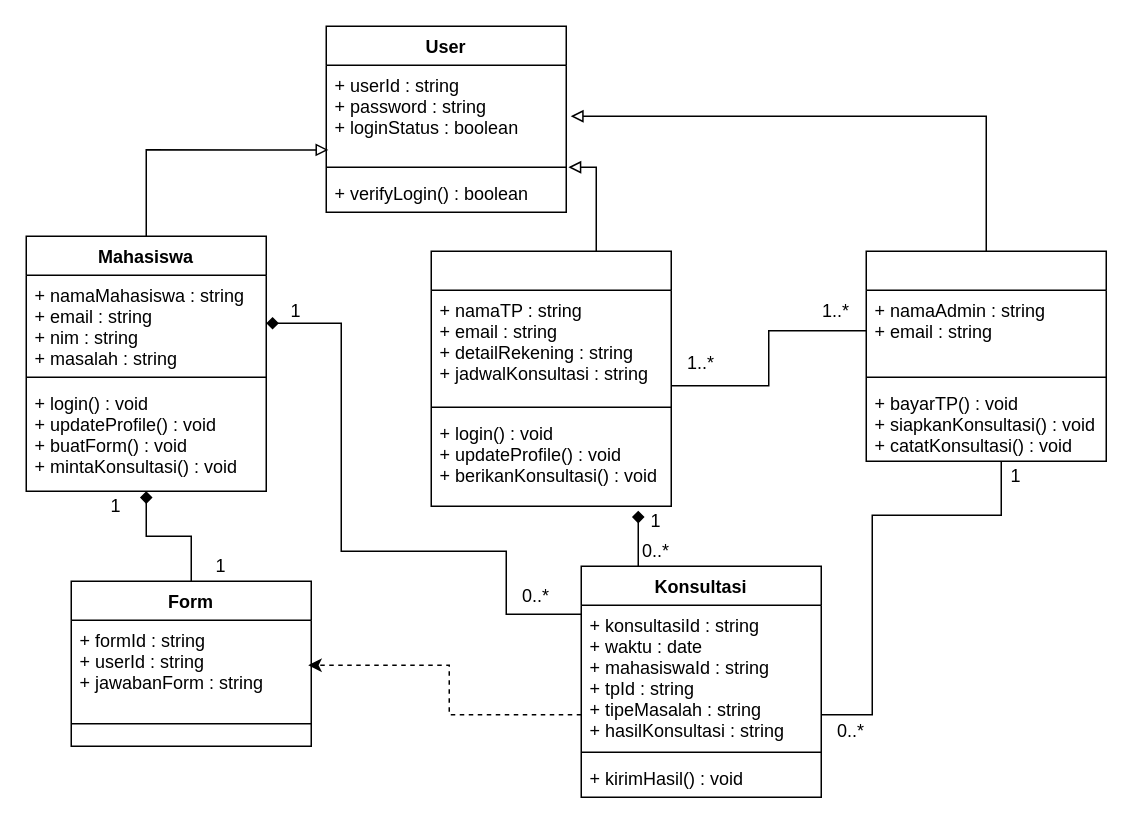
The diagram is 1133 pixels wide and 828 high, and some of its shapes have lost their labels. The box of each missing label's shape, as (x1, y1, x2, y2) in pixels:
Administrator: (865, 250, 1106, 461)
Tenaga Profesional: (430, 250, 671, 506)
